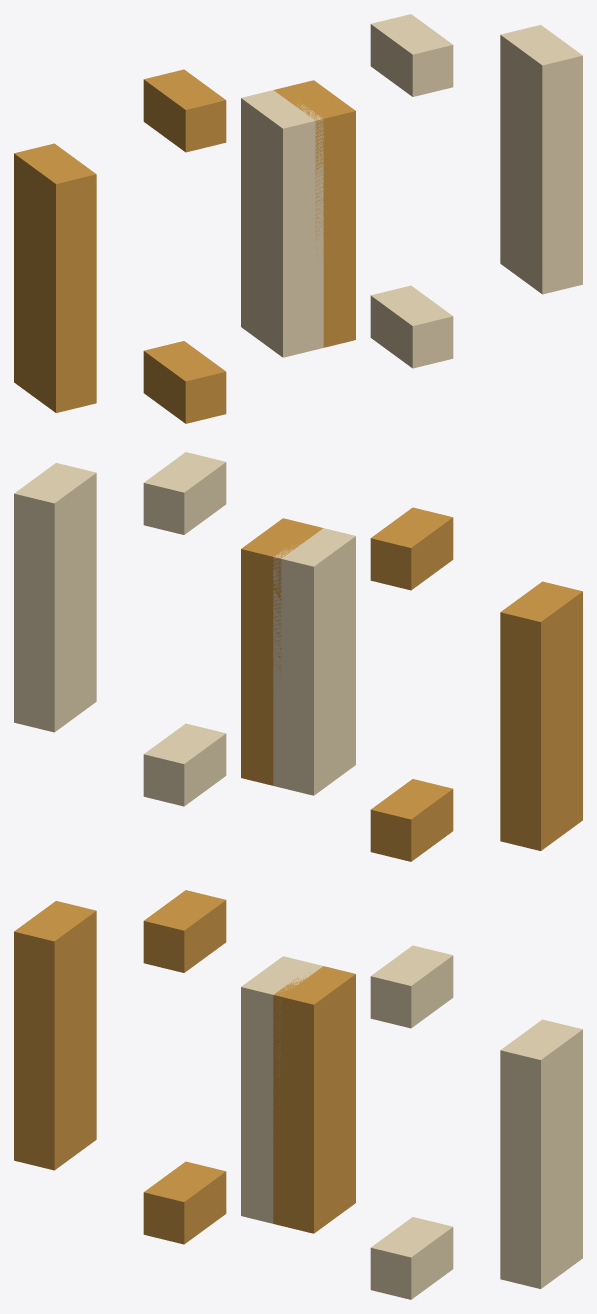
File: wedding_rings_voxel.obj
3 views of the same model, one above another, from view 1: azimuth 30°, elevation 25°; view 2: azimuth 150°, elevation 25°; view 3: azimuth 330°, elevation 25° (orthographic).
Visible parts, largest first — view 1: wedding_rings_voxel; view 2: wedding_rings_voxel; view 3: wedding_rings_voxel.
Part boxes in pixels (bbox=[...]): wedding_rings_voxel: bbox=[14, 14, 582, 423]; wedding_rings_voxel: bbox=[14, 452, 582, 861]; wedding_rings_voxel: bbox=[14, 890, 582, 1299].
Size of the model in its own units: 1.3 by 0.74 by 0.18.
